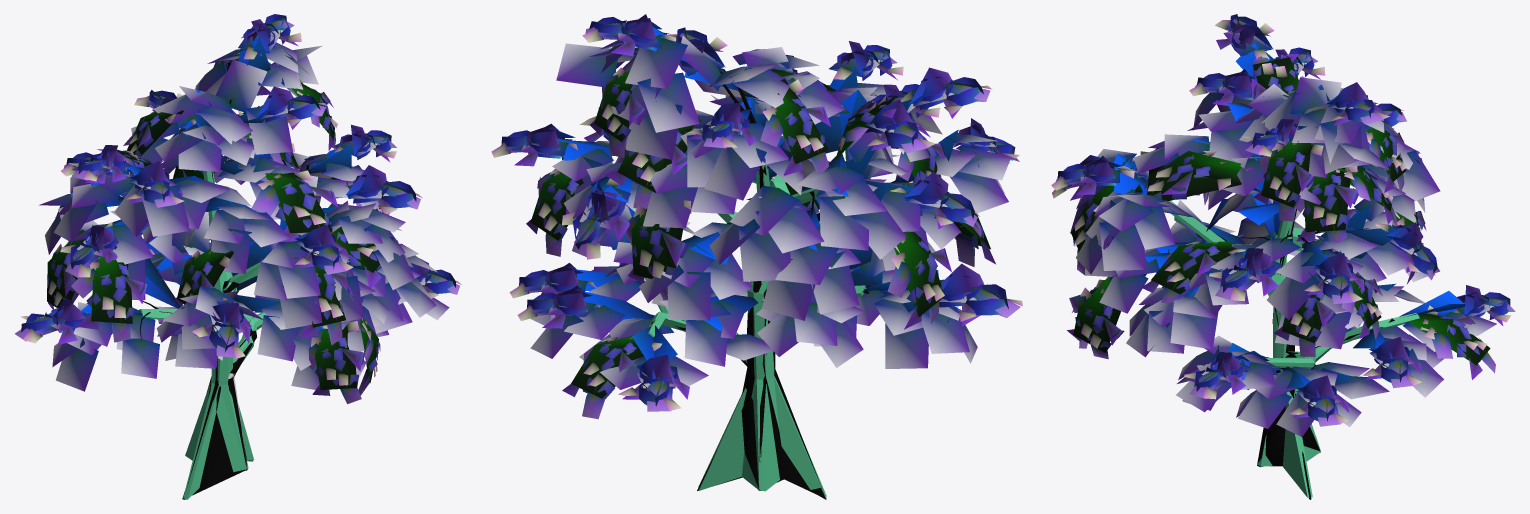
File: tro_tree_1_filler.dae
3 renders of one model, left to right at view 1: azimuth 30°, elevation 25°; view 2: azimuth 150°, elevation 25°; view 3: azimuth 270°, elevation 25°, orthographic. The views are drawn at different scales.
Visible parts, largest first — view 1: tree_oak_bush_a880, tree_oak_bush_a310, Colmesh-1; view 2: tree_oak_bush_a880, tree_oak_bush_a310, Colmesh-1; view 3: tree_oak_bush_a880, tree_oak_bush_a310, Colmesh-1.
Boxes of the visible parts, x1,y1,x2,y2 form: tree_oak_bush_a880: [15, 14, 461, 499]; tree_oak_bush_a310: [23, 16, 456, 495]; Colmesh-1: [139, 171, 349, 499]; tree_oak_bush_a880: [491, 14, 1022, 499]; tree_oak_bush_a310: [503, 18, 1018, 493]; Colmesh-1: [645, 164, 866, 497]; tree_oak_bush_a880: [1051, 14, 1515, 499]; tree_oak_bush_a310: [1059, 14, 1514, 466]; Colmesh-1: [1168, 200, 1419, 497].
Bounding box in the file's own units: 21.36 × 20.29 × 20.67.
